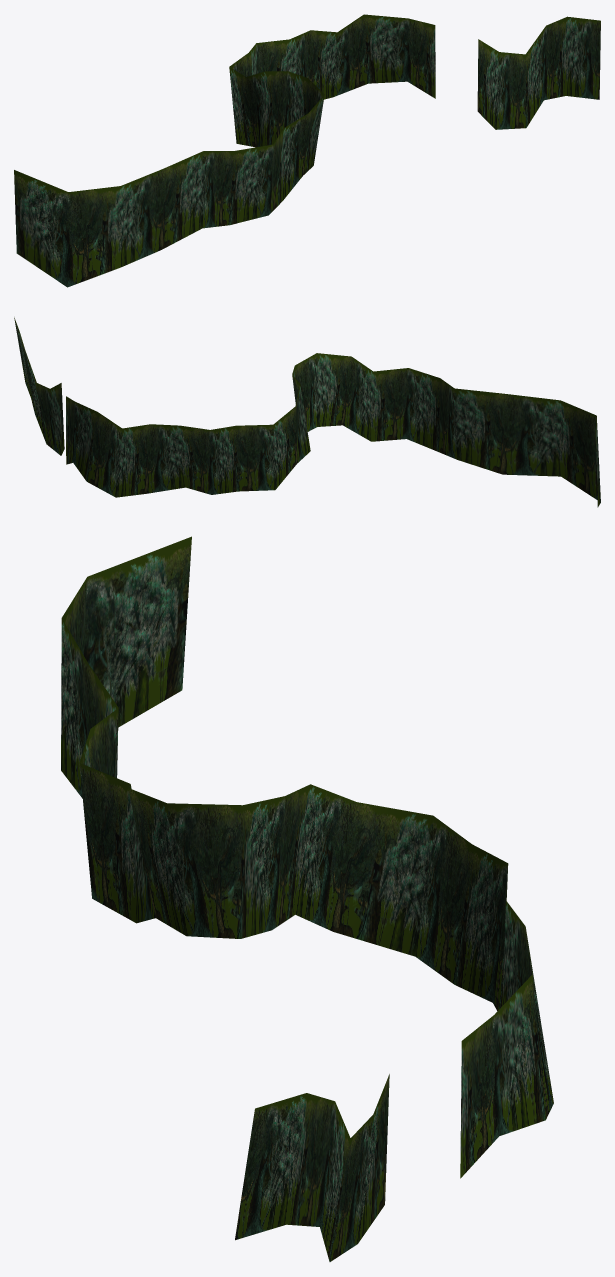
Rendered from MIRKWOOD_MIRK_PLAYSURFACE96.fbx.
3 renders of one model, top to bottom at view 1: azimuth 30°, elevation 25°; view 2: azimuth 150°, elevation 25°; view 3: azimuth 270°, elevation 25°, orthographic. The views are drawn at different scales.
Visible parts, largest first — view 1: MIRKWOOD_MIRK_PLAYSURFACE96; view 2: MIRKWOOD_MIRK_PLAYSURFACE96; view 3: MIRKWOOD_MIRK_PLAYSURFACE96.
Boxes of the visible parts, x1,y1,x2,y2 form: MIRKWOOD_MIRK_PLAYSURFACE96: (14, 14, 600, 287); MIRKWOOD_MIRK_PLAYSURFACE96: (14, 317, 600, 507); MIRKWOOD_MIRK_PLAYSURFACE96: (61, 536, 553, 1261).
Bounding box in the file's own units: 1656632 × 336319 × 625006.
1 material, 1 textured.
